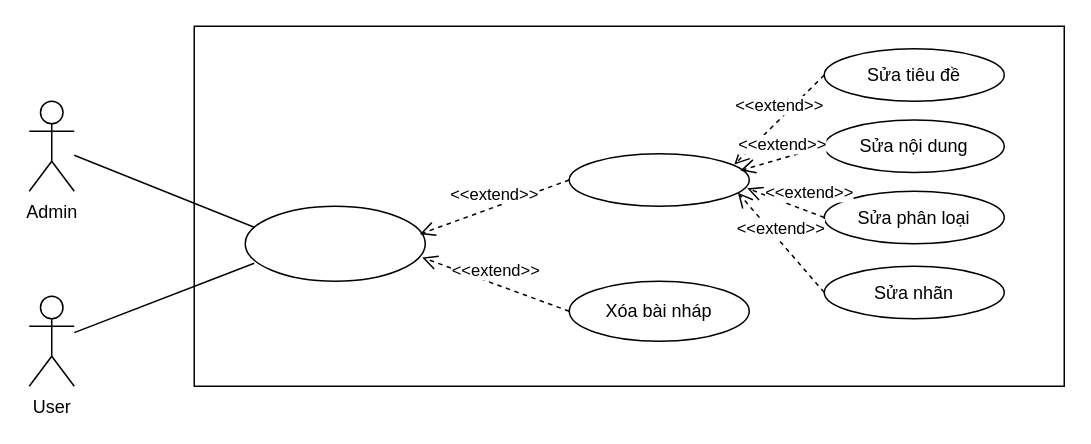
The diagram is 1091 pixels wide and 444 high, and some of its shapes have lost their labels. The shapes that lost their labels are listed below. From the top down, each one's box as (x1, y1, x2, y2) in pixels, then its label:
(568, 152, 749, 206): Sửa bài nháp
(244, 205, 425, 281): Xem nháp của mình
